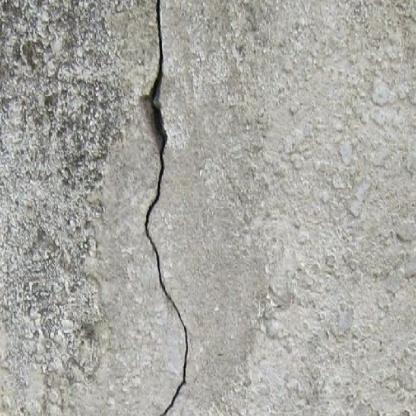Cracks: (141, 0, 194, 416)
